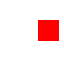square: (38, 20, 58, 40)
